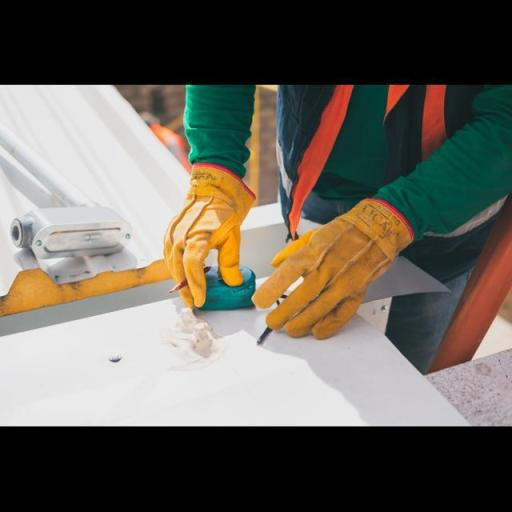gloves: (252, 198, 412, 352), (158, 160, 250, 308)
